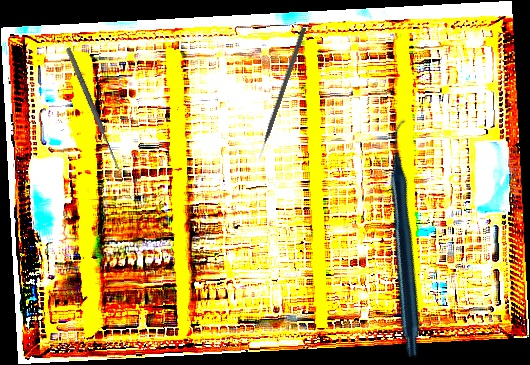Handpiece: (295, 116, 521, 361)
Hook Surgical: (63, 44, 128, 173), (255, 26, 307, 160)
